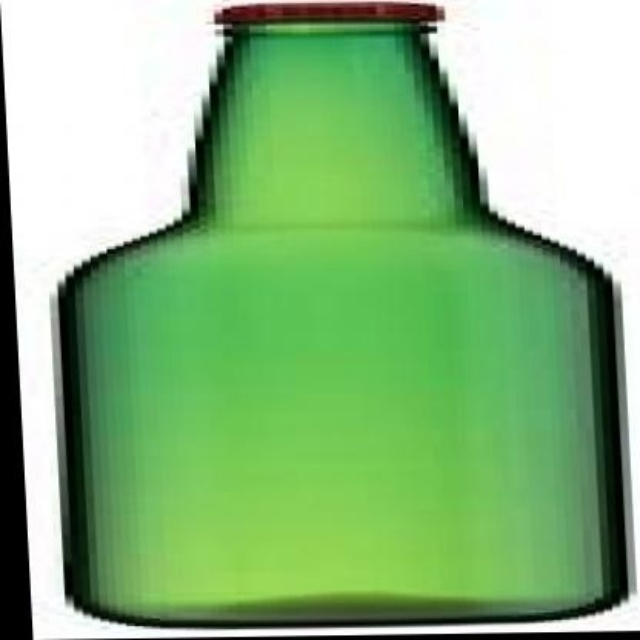trash: (60, 3, 625, 623)
